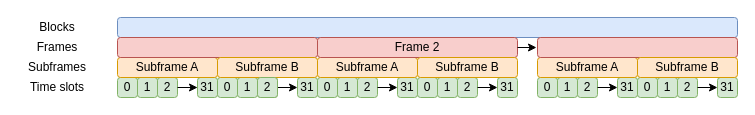
Image size: 755x115. Some labels were removed from this diagram. Each missing label, with the centre of its shape:
"Audio block" goes at (427,27).
"Frame 1" goes at (217,47).
"Frame 192" goes at (637,47).
